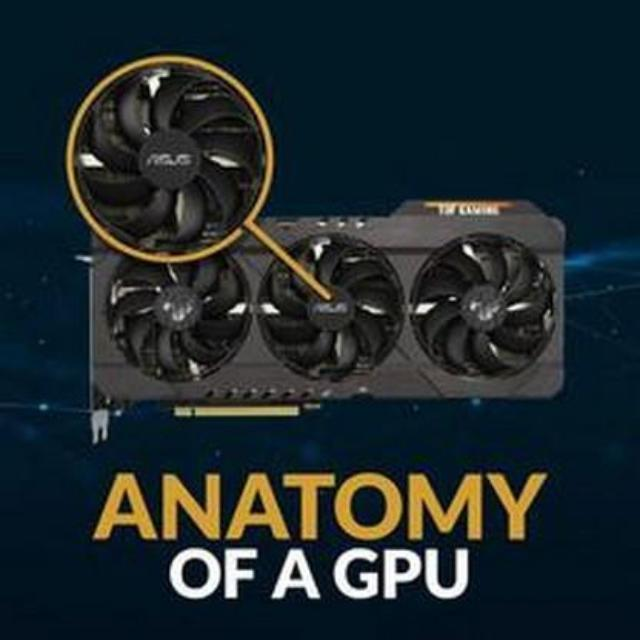GPU: (78, 198, 570, 422)
